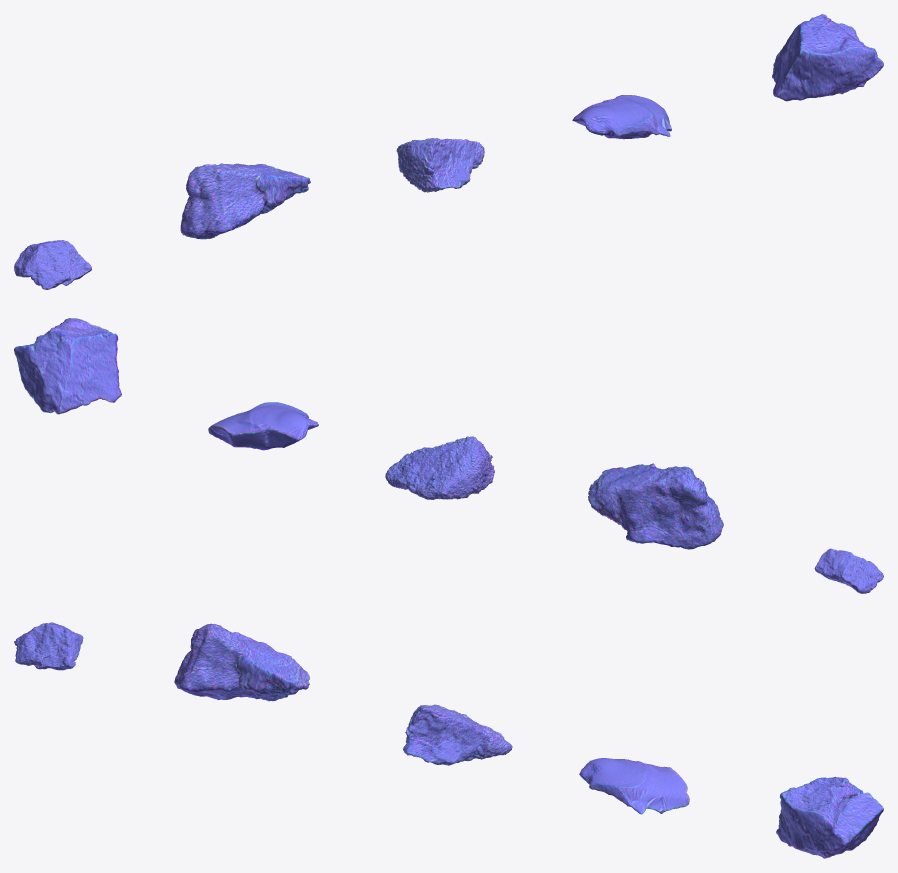
Rendered from river_stones.glb.
The picture shows the model from 3 angles, top to bottom: view 1: azimuth 30°, elevation 25°; view 2: azimuth 150°, elevation 25°; view 3: azimuth 330°, elevation 25°; orthographic projection.
Visible parts, largest first — view 1: namaqualand_stones_01_e, namaqualand_stones_01_b, namaqualand_stones_01_c, namaqualand_stones_01_d, namaqualand_stones_01_a; view 2: namaqualand_stones_01_b, namaqualand_stones_01_e, namaqualand_stones_01_c, namaqualand_stones_01_d, namaqualand_stones_01_a; view 3: namaqualand_stones_01_b, namaqualand_stones_01_e, namaqualand_stones_01_c, namaqualand_stones_01_d, namaqualand_stones_01_a.
Boxes of the visible parts, x1,y1,x2,y2 form: namaqualand_stones_01_e: (772,14,883,101); namaqualand_stones_01_b: (180,163,310,239); namaqualand_stones_01_c: (396,138,484,192); namaqualand_stones_01_d: (572,95,671,139); namaqualand_stones_01_a: (14,240,91,289); namaqualand_stones_01_b: (588,463,723,549); namaqualand_stones_01_e: (14,318,121,414); namaqualand_stones_01_c: (385,436,494,499); namaqualand_stones_01_d: (208,402,318,450); namaqualand_stones_01_a: (814,548,883,593); namaqualand_stones_01_b: (174,623,309,701); namaqualand_stones_01_e: (776,776,883,858); namaqualand_stones_01_c: (403,704,512,765); namaqualand_stones_01_d: (579,758,689,814); namaqualand_stones_01_a: (14,622,83,670).
Size of the model in its own units: 1.02 by 0.084 by 0.1121.
Materials: 1 (1 with a texture image).
